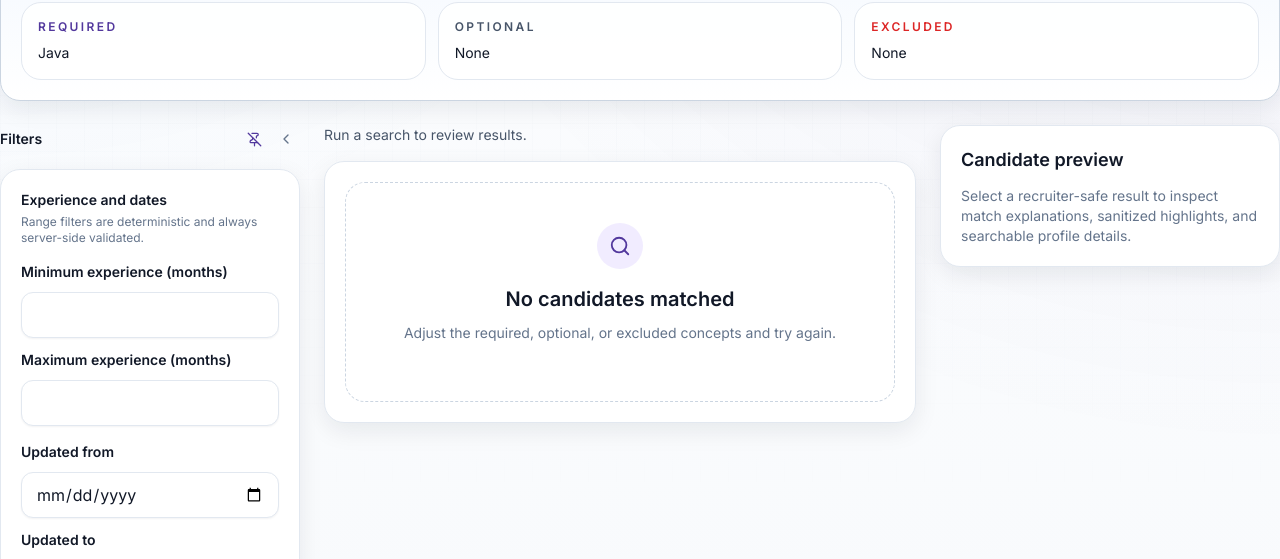
RecruiterResumeSearchV2Page › aborts stale requests and prevents older responses from overwriting newer results
(page scrolled)
In the number field labelled "Minimum experience (months)": (150, 315) [21,292,279,338], type "60"
(page scrolled)
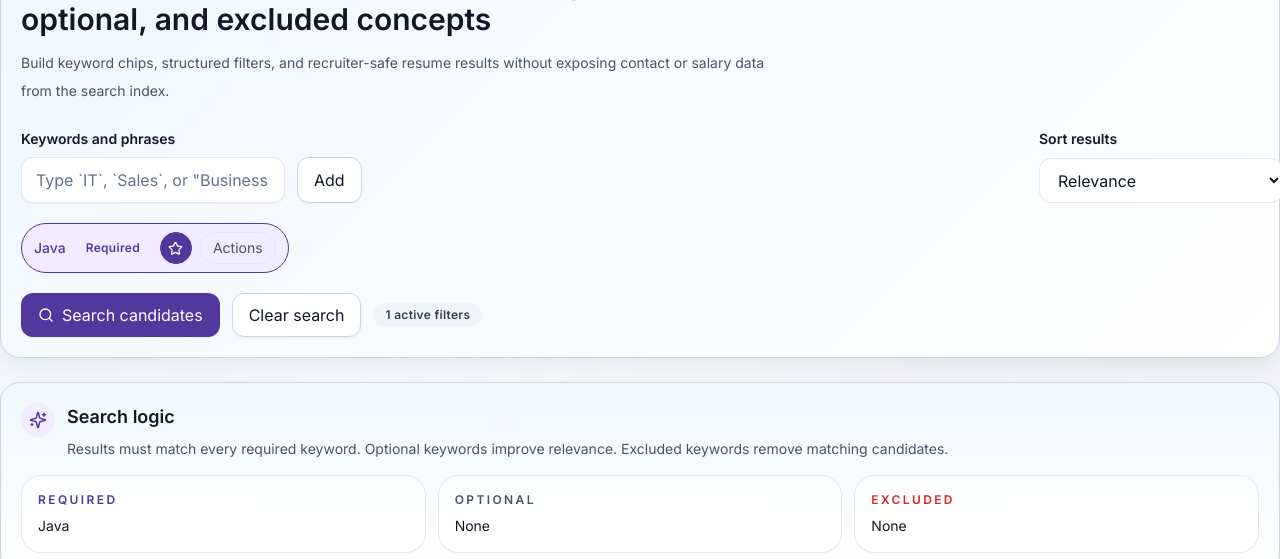
Click the button "Search candidates": (120, 315) [21,293,220,337]
(page scrolled)
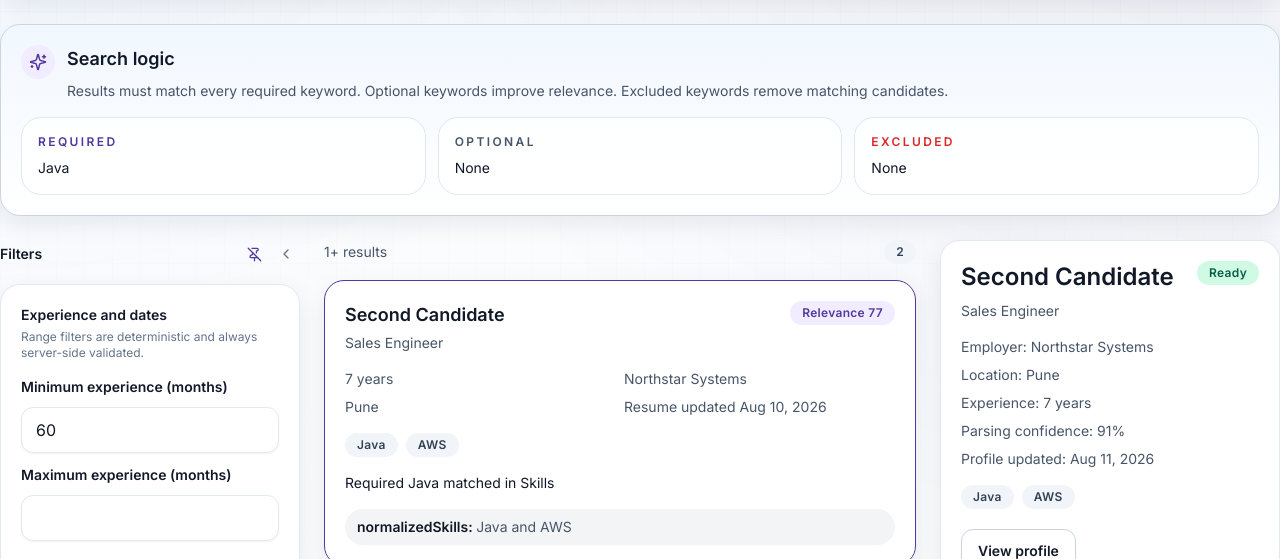
Now the heading "Second Candidate" below "1+ results" is shown, box [345,304,504,325]
